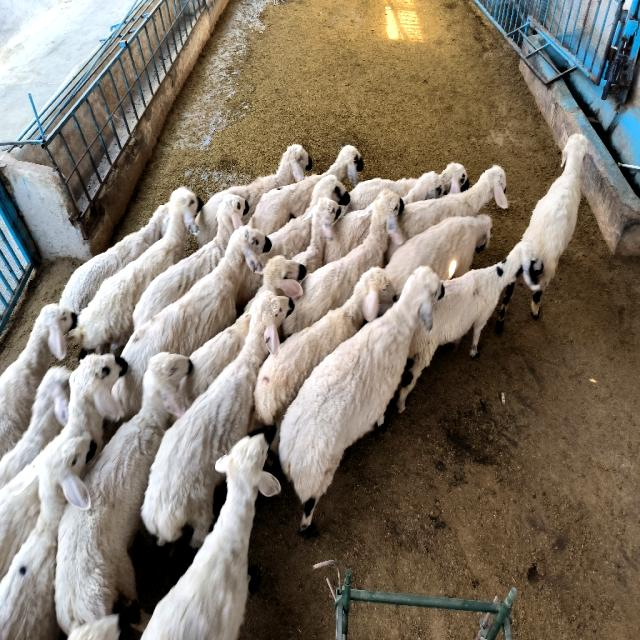sheep: (279, 268, 442, 528), (55, 352, 190, 633), (141, 292, 288, 548), (112, 227, 268, 419), (142, 435, 280, 640), (398, 242, 542, 411), (254, 267, 395, 425), (70, 188, 200, 352), (0, 433, 91, 639), (282, 190, 404, 338), (132, 195, 249, 329), (522, 133, 589, 318), (59, 203, 169, 314), (196, 145, 312, 247), (0, 303, 76, 458), (249, 145, 364, 234), (0, 367, 71, 488), (385, 215, 491, 296), (399, 165, 507, 239), (264, 175, 349, 261), (60, 353, 126, 459), (0, 462, 40, 579), (292, 198, 340, 273), (402, 163, 469, 203), (496, 285, 513, 330)
